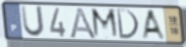4: (49, 7, 67, 38)
A: (68, 6, 98, 40), (140, 8, 168, 42)
D: (115, 7, 141, 41)
M: (90, 7, 121, 40)
U: (19, 4, 46, 39)
